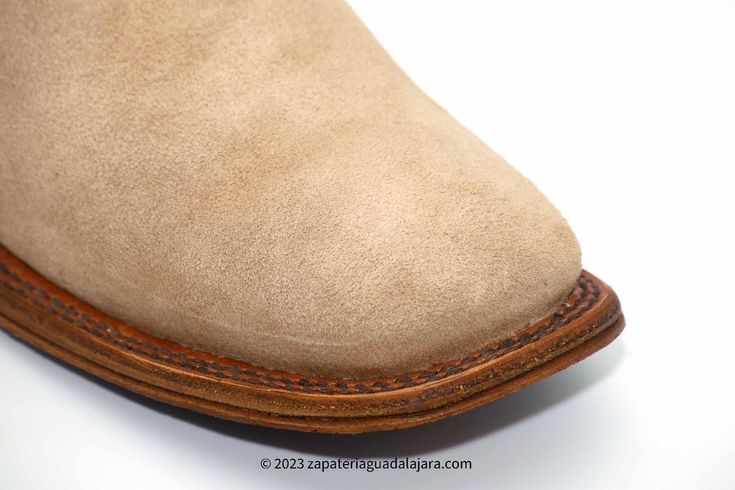gamuza: (1, 1, 583, 381)
